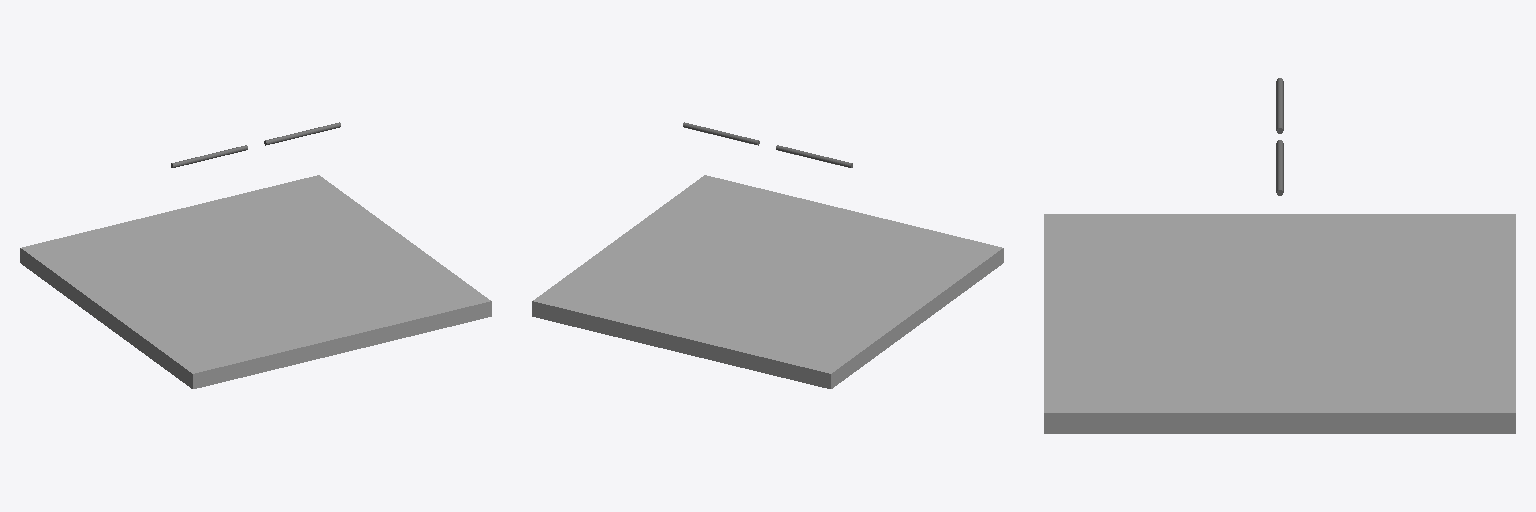
robot.urdf — panda:
<?xml version="1.0" ?>
<!-- =================================================================================== -->
<!-- |    This document was autogenerated by xacro from panda_two_objects.urdf.xacro   | -->
<!-- |    EDITING THIS FILE BY HAND IS NOT RECOMMENDED                                 | -->
<!-- =================================================================================== -->
<robot name="panda">
  <!-- box shaped table as base for the 2 Pandas -->
  <link name="base">
    <visual>
      <origin rpy="0 0 0" xyz="0 0 0.05"/>
      <geometry>
        <box size="2 2 0.1"/>
      </geometry>
      <material name="Pastel Gray">
        <color rgba="0.7 0.7 0.7 0.2"/>
      </material>
    </visual>
    <collision>
      <origin rpy="0 0 0" xyz="0 0 0.05"/>
      <geometry>
        <box size="2 2 0.1"/>
      </geometry>
    </collision>
  </link>
  <joint name="panda0_joint_base" type="fixed">
    <parent link="base"/>
    <child link="panda0_link0"/>
    <origin rpy="0 0 -3.141592653589793" xyz="0.4 0.0 0.1"/>
  </joint>
  <link name="panda0_link0">
    <visual>
      <geometry>
        <mesh filename="package://moveit_resources_panda_description/meshes/visual/link0.dae"/>
      </geometry>
    </visual>
    <collision>
      <geometry>
        <mesh filename="package://moveit_resources_panda_description/meshes/collision/link0.stl"/>
      </geometry>
    </collision>
  </link>
  <link name="panda0_link1">
    <visual>
      <geometry>
        <mesh filename="package://moveit_resources_panda_description/meshes/visual/link1.dae"/>
      </geometry>
    </visual>
    <collision>
      <geometry>
        <mesh filename="package://moveit_resources_panda_description/meshes/collision/link1.stl"/>
      </geometry>
    </collision>
  </link>
  <joint name="panda0_joint1" type="revolute">
    <safety_controller k_position="100.0" k_velocity="40.0" soft_lower_limit="-2.8973" soft_upper_limit="2.8973"/>
    <origin rpy="0 0 0" xyz="0 0 0.333"/>
    <parent link="panda0_link0"/>
    <child link="panda0_link1"/>
    <axis xyz="0 0 1"/>
    <limit effort="87" lower="-2.9671" upper="2.9671" velocity="2.3925"/>
  </joint>
  <link name="panda0_link2">
    <visual>
      <geometry>
        <mesh filename="package://moveit_resources_panda_description/meshes/visual/link2.dae"/>
      </geometry>
    </visual>
    <collision>
      <geometry>
        <mesh filename="package://moveit_resources_panda_description/meshes/collision/link2.stl"/>
      </geometry>
    </collision>
  </link>
  <joint name="panda0_joint2" type="revolute">
    <safety_controller k_position="100.0" k_velocity="40.0" soft_lower_limit="-1.7628" soft_upper_limit="1.7628"/>
    <origin rpy="-1.5707963267948966 0 0" xyz="0 0 0"/>
    <parent link="panda0_link1"/>
    <child link="panda0_link2"/>
    <axis xyz="0 0 1"/>
    <limit effort="87" lower="-1.8326" upper="1.8326" velocity="2.3925"/>
  </joint>
  <link name="panda0_link3">
    <visual>
      <geometry>
        <mesh filename="package://moveit_resources_panda_description/meshes/visual/link3.dae"/>
      </geometry>
    </visual>
    <collision>
      <geometry>
        <mesh filename="package://moveit_resources_panda_description/meshes/collision/link3.stl"/>
      </geometry>
    </collision>
  </link>
  <joint name="panda0_joint3" type="revolute">
    <safety_controller k_position="100.0" k_velocity="40.0" soft_lower_limit="-2.8973" soft_upper_limit="2.8973"/>
    <origin rpy="1.5707963267948966 0 0" xyz="0 -0.316 0"/>
    <parent link="panda0_link2"/>
    <child link="panda0_link3"/>
    <axis xyz="0 0 1"/>
    <limit effort="87" lower="-2.9671" upper="2.9671" velocity="2.3925"/>
  </joint>
  <link name="panda0_link4">
    <visual>
      <geometry>
        <mesh filename="package://moveit_resources_panda_description/meshes/visual/link4.dae"/>
      </geometry>
    </visual>
    <collision>
      <geometry>
        <mesh filename="package://moveit_resources_panda_description/meshes/collision/link4.stl"/>
      </geometry>
    </collision>
  </link>
  <joint name="panda0_joint4" type="revolute">
    <safety_controller k_position="100.0" k_velocity="40.0" soft_lower_limit="-3.0718" soft_upper_limit="0.0175"/>
    <origin rpy="1.5707963267948966 0 0" xyz="0.0825 0 0"/>
    <parent link="panda0_link3"/>
    <child link="panda0_link4"/>
    <axis xyz="0 0 1"/>
    <limit effort="87" lower="-3.1416" upper="0.0873" velocity="2.3925"/>
  </joint>
  <link name="panda0_link5">
    <visual>
      <geometry>
        <mesh filename="package://moveit_resources_panda_description/meshes/visual/link5.dae"/>
      </geometry>
    </visual>
    <collision>
      <geometry>
        <mesh filename="package://moveit_resources_panda_description/meshes/collision/link5.stl"/>
      </geometry>
    </collision>
  </link>
  <joint name="panda0_joint5" type="revolute">
    <safety_controller k_position="100.0" k_velocity="40.0" soft_lower_limit="-2.8973" soft_upper_limit="2.8973"/>
    <origin rpy="-1.5707963267948966 0 0" xyz="-0.0825 0.384 0"/>
    <parent link="panda0_link4"/>
    <child link="panda0_link5"/>
    <axis xyz="0 0 1"/>
    <limit effort="12" lower="-2.9671" upper="2.9671" velocity="2.8710"/>
  </joint>
  <link name="panda0_link6">
    <visual>
      <geometry>
        <mesh filename="package://moveit_resources_panda_description/meshes/visual/link6.dae"/>
      </geometry>
    </visual>
    <collision>
      <geometry>
        <mesh filename="package://moveit_resources_panda_description/meshes/collision/link6.stl"/>
      </geometry>
    </collision>
  </link>
  <joint name="panda0_joint6" type="revolute">
    <safety_controller k_position="100.0" k_velocity="40.0" soft_lower_limit="-0.0175" soft_upper_limit="3.7525"/>
    <origin rpy="1.5707963267948966 0 0" xyz="0 0 0"/>
    <parent link="panda0_link5"/>
    <child link="panda0_link6"/>
    <axis xyz="0 0 1"/>
    <limit effort="12" lower="-0.0873" upper="3.8223" velocity="2.8710"/>
  </joint>
  <link name="panda0_link7">
    <visual>
      <geometry>
        <mesh filename="package://moveit_resources_panda_description/meshes/visual/link7.dae"/>
      </geometry>
    </visual>
    <collision>
      <geometry>
        <mesh filename="package://moveit_resources_panda_description/meshes/collision/link7.stl"/>
      </geometry>
    </collision>
  </link>
  <joint name="panda0_joint7" type="revolute">
    <safety_controller k_position="100.0" k_velocity="40.0" soft_lower_limit="-2.8973" soft_upper_limit="2.8973"/>
    <origin rpy="1.5707963267948966 0 0" xyz="0.088 0 0"/>
    <parent link="panda0_link6"/>
    <child link="panda0_link7"/>
    <axis xyz="0 0 1"/>
    <limit effort="12" lower="-2.9671" upper="2.9671" velocity="2.8710"/>
  </joint>
  <link name="panda0_link8"/>
  <joint name="panda0_joint8" type="fixed">
    <origin rpy="0 0 0" xyz="0 0 0.107"/>
    <parent link="panda0_link7"/>
    <child link="panda0_link8"/>
    <axis xyz="0 0 0"/>
  </joint>
  <joint name="panda0_hand_joint" type="fixed">
    <parent link="panda0_link8"/>
    <child link="panda0_hand"/>
    <origin rpy="0 0 0" xyz="0 0 0"/>
  </joint>
  <link name="panda0_hand">
    <visual>
      <geometry>
        <mesh filename="package://moveit_resources_panda_description/meshes/visual/hand.dae"/>
      </geometry>
    </visual>
    <collision>
      <geometry>
        <mesh filename="package://moveit_resources_panda_description/meshes/collision/hand.stl"/>
      </geometry>
    </collision>
  </link>
  <link name="panda0_leftfinger">
    <visual>
      <geometry>
        <mesh filename="package://moveit_resources_panda_description/meshes/visual/finger.dae"/>
      </geometry>
    </visual>
    <collision>
      <geometry>
        <mesh filename="package://moveit_resources_panda_description/meshes/collision/finger.stl"/>
      </geometry>
    </collision>
  </link>
  <link name="panda0_rightfinger">
    <visual>
      <origin rpy="0 0 3.141592653589793" xyz="0 0 0"/>
      <geometry>
        <mesh filename="package://moveit_resources_panda_description/meshes/visual/finger.dae"/>
      </geometry>
    </visual>
    <collision>
      <origin rpy="0 0 3.141592653589793" xyz="0 0 0"/>
      <geometry>
        <mesh filename="package://moveit_resources_panda_description/meshes/collision/finger.stl"/>
      </geometry>
    </collision>
  </link>
  <joint name="panda0_finger_joint1" type="prismatic">
    <parent link="panda0_hand"/>
    <child link="panda0_leftfinger"/>
    <origin rpy="0 0 0" xyz="0 0 0.0584"/>
    <axis xyz="0 1 0"/>
    <limit effort="20" lower="0.0" upper="0.04" velocity="0.2"/>
  </joint>
  <joint name="panda0_finger_joint2" type="prismatic">
    <parent link="panda0_hand"/>
    <child link="panda0_rightfinger"/>
    <origin rpy="0 0 0" xyz="0 0 0.0584"/>
    <axis xyz="0 -1 0"/>
    <limit effort="20" lower="0.0" upper="0.04" velocity="0.2"/>
    <mimic joint="panda0_finger_joint1"/>
  </joint>
  <material name="rod_0_material">
    <color rgba="0.5 0.5 0.5 1"/>
  </material>
  <link name="rod_0">
    <visual>
      <geometry>
        <cylinder length="0.5" radius="0.015"/>
      </geometry>
      <material name="rod_0_material"/>
    </visual>
    <collision>
      <geometry>
        <cylinder length="0.5" radius="0.015"/>
      </geometry>
    </collision>
  </link>
  <!-- Attach the rod to the specified parent link -->
  <joint name="rod_0_joint" type="fixed">
    <parent link="panda0_hand"/>
    <child link="rod_0"/>
    <origin rpy="0 1.5708 0" xyz="0 0 0.1"/>
    <!-- Adjust as needed -->
  </joint>
  <joint name="panda1_joint_base" type="fixed">
    <parent link="base"/>
    <child link="panda1_link0"/>
    <origin rpy="0 0 0" xyz="-0.4 0.0 0.1"/>
  </joint>
  <link name="panda1_link0">
    <visual>
      <geometry>
        <mesh filename="package://moveit_resources_panda_description/meshes/visual/link0.dae"/>
      </geometry>
    </visual>
    <collision>
      <geometry>
        <mesh filename="package://moveit_resources_panda_description/meshes/collision/link0.stl"/>
      </geometry>
    </collision>
  </link>
  <link name="panda1_link1">
    <visual>
      <geometry>
        <mesh filename="package://moveit_resources_panda_description/meshes/visual/link1.dae"/>
      </geometry>
    </visual>
    <collision>
      <geometry>
        <mesh filename="package://moveit_resources_panda_description/meshes/collision/link1.stl"/>
      </geometry>
    </collision>
  </link>
  <joint name="panda1_joint1" type="revolute">
    <safety_controller k_position="100.0" k_velocity="40.0" soft_lower_limit="-2.8973" soft_upper_limit="2.8973"/>
    <origin rpy="0 0 0" xyz="0 0 0.333"/>
    <parent link="panda1_link0"/>
    <child link="panda1_link1"/>
    <axis xyz="0 0 1"/>
    <limit effort="87" lower="-2.9671" upper="2.9671" velocity="2.3925"/>
  </joint>
  <link name="panda1_link2">
    <visual>
      <geometry>
        <mesh filename="package://moveit_resources_panda_description/meshes/visual/link2.dae"/>
      </geometry>
    </visual>
    <collision>
      <geometry>
        <mesh filename="package://moveit_resources_panda_description/meshes/collision/link2.stl"/>
      </geometry>
    </collision>
  </link>
  <joint name="panda1_joint2" type="revolute">
    <safety_controller k_position="100.0" k_velocity="40.0" soft_lower_limit="-1.7628" soft_upper_limit="1.7628"/>
    <origin rpy="-1.5707963267948966 0 0" xyz="0 0 0"/>
    <parent link="panda1_link1"/>
    <child link="panda1_link2"/>
    <axis xyz="0 0 1"/>
    <limit effort="87" lower="-1.8326" upper="1.8326" velocity="2.3925"/>
  </joint>
  <link name="panda1_link3">
    <visual>
      <geometry>
        <mesh filename="package://moveit_resources_panda_description/meshes/visual/link3.dae"/>
      </geometry>
    </visual>
    <collision>
      <geometry>
        <mesh filename="package://moveit_resources_panda_description/meshes/collision/link3.stl"/>
      </geometry>
    </collision>
  </link>
  <joint name="panda1_joint3" type="revolute">
    <safety_controller k_position="100.0" k_velocity="40.0" soft_lower_limit="-2.8973" soft_upper_limit="2.8973"/>
    <origin rpy="1.5707963267948966 0 0" xyz="0 -0.316 0"/>
    <parent link="panda1_link2"/>
    <child link="panda1_link3"/>
    <axis xyz="0 0 1"/>
    <limit effort="87" lower="-2.9671" upper="2.9671" velocity="2.3925"/>
  </joint>
  <link name="panda1_link4">
    <visual>
      <geometry>
        <mesh filename="package://moveit_resources_panda_description/meshes/visual/link4.dae"/>
      </geometry>
    </visual>
    <collision>
      <geometry>
        <mesh filename="package://moveit_resources_panda_description/meshes/collision/link4.stl"/>
      </geometry>
    </collision>
  </link>
  <joint name="panda1_joint4" type="revolute">
    <safety_controller k_position="100.0" k_velocity="40.0" soft_lower_limit="-3.0718" soft_upper_limit="0.0175"/>
    <origin rpy="1.5707963267948966 0 0" xyz="0.0825 0 0"/>
    <parent link="panda1_link3"/>
    <child link="panda1_link4"/>
    <axis xyz="0 0 1"/>
    <limit effort="87" lower="-3.1416" upper="0.0873" velocity="2.3925"/>
  </joint>
  <link name="panda1_link5">
    <visual>
      <geometry>
        <mesh filename="package://moveit_resources_panda_description/meshes/visual/link5.dae"/>
      </geometry>
    </visual>
    <collision>
      <geometry>
        <mesh filename="package://moveit_resources_panda_description/meshes/collision/link5.stl"/>
      </geometry>
    </collision>
  </link>
  <joint name="panda1_joint5" type="revolute">
    <safety_controller k_position="100.0" k_velocity="40.0" soft_lower_limit="-2.8973" soft_upper_limit="2.8973"/>
    <origin rpy="-1.5707963267948966 0 0" xyz="-0.0825 0.384 0"/>
    <parent link="panda1_link4"/>
    <child link="panda1_link5"/>
    <axis xyz="0 0 1"/>
    <limit effort="12" lower="-2.9671" upper="2.9671" velocity="2.8710"/>
  </joint>
  <link name="panda1_link6">
    <visual>
      <geometry>
        <mesh filename="package://moveit_resources_panda_description/meshes/visual/link6.dae"/>
      </geometry>
    </visual>
    <collision>
      <geometry>
        <mesh filename="package://moveit_resources_panda_description/meshes/collision/link6.stl"/>
      </geometry>
    </collision>
  </link>
  <joint name="panda1_joint6" type="revolute">
    <safety_controller k_position="100.0" k_velocity="40.0" soft_lower_limit="-0.0175" soft_upper_limit="3.7525"/>
    <origin rpy="1.5707963267948966 0 0" xyz="0 0 0"/>
    <parent link="panda1_link5"/>
    <child link="panda1_link6"/>
    <axis xyz="0 0 1"/>
    <limit effort="12" lower="-0.0873" upper="3.8223" velocity="2.8710"/>
  </joint>
  <link name="panda1_link7">
    <visual>
      <geometry>
        <mesh filename="package://moveit_resources_panda_description/meshes/visual/link7.dae"/>
      </geometry>
    </visual>
    <collision>
      <geometry>
        <mesh filename="package://moveit_resources_panda_description/meshes/collision/link7.stl"/>
      </geometry>
    </collision>
  </link>
  <joint name="panda1_joint7" type="revolute">
    <safety_controller k_position="100.0" k_velocity="40.0" soft_lower_limit="-2.8973" soft_upper_limit="2.8973"/>
    <origin rpy="1.5707963267948966 0 0" xyz="0.088 0 0"/>
    <parent link="panda1_link6"/>
    <child link="panda1_link7"/>
    <axis xyz="0 0 1"/>
    <limit effort="12" lower="-2.9671" upper="2.9671" velocity="2.8710"/>
  </joint>
  <link name="panda1_link8"/>
  <joint name="panda1_joint8" type="fixed">
    <origin rpy="0 0 0" xyz="0 0 0.107"/>
    <parent link="panda1_link7"/>
    <child link="panda1_link8"/>
    <axis xyz="0 0 0"/>
  </joint>
  <joint name="panda1_hand_joint" type="fixed">
    <parent link="panda1_link8"/>
    <child link="panda1_hand"/>
    <origin rpy="0 0 0" xyz="0 0 0"/>
  </joint>
  <link name="panda1_hand">
    <visual>
      <geometry>
        <mesh filename="package://moveit_resources_panda_description/meshes/visual/hand.dae"/>
      </geometry>
    </visual>
    <collision>
      <geometry>
        <mesh filename="package://moveit_resources_panda_description/meshes/collision/hand.stl"/>
      </geometry>
    </collision>
  </link>
  <link name="panda1_leftfinger">
    <visual>
      <geometry>
        <mesh filename="package://moveit_resources_panda_description/meshes/visual/finger.dae"/>
      </geometry>
    </visual>
    <collision>
      <geometry>
        <mesh filename="package://moveit_resources_panda_description/meshes/collision/finger.stl"/>
      </geometry>
    </collision>
  </link>
  <link name="panda1_rightfinger">
    <visual>
      <origin rpy="0 0 3.141592653589793" xyz="0 0 0"/>
      <geometry>
        <mesh filename="package://moveit_resources_panda_description/meshes/visual/finger.dae"/>
      </geometry>
    </visual>
    <collision>
      <origin rpy="0 0 3.141592653589793" xyz="0 0 0"/>
      <geometry>
        <mesh filename="package://moveit_resources_panda_description/meshes/collision/finger.stl"/>
      </geometry>
    </collision>
  </link>
  <joint name="panda1_finger_joint1" type="prismatic">
    <parent link="panda1_hand"/>
    <child link="panda1_leftfinger"/>
    <origin rpy="0 0 0" xyz="0 0 0.0584"/>
    <axis xyz="0 1 0"/>
    <limit effort="20" lower="0.0" upper="0.04" velocity="0.2"/>
  </joint>
  <joint name="panda1_finger_joint2" type="prismatic">
    <parent link="panda1_hand"/>
    <child link="panda1_rightfinger"/>
    <origin rpy="0 0 0" xyz="0 0 0.0584"/>
    <axis xyz="0 -1 0"/>
    <limit effort="20" lower="0.0" upper="0.04" velocity="0.2"/>
    <mimic joint="panda1_finger_joint1"/>
  </joint>
  <material name="rod_1_material">
    <color rgba="0.5 0.5 0.5 1"/>
  </material>
  <link name="rod_1">
    <visual>
      <geometry>
        <cylinder length="0.5" radius="0.015"/>
      </geometry>
      <material name="rod_1_material"/>
    </visual>
    <collision>
      <geometry>
        <cylinder length="0.5" radius="0.015"/>
      </geometry>
    </collision>
  </link>
  <!-- Attach the rod to the specified parent link -->
  <joint name="rod_1_joint" type="fixed">
    <parent link="panda1_hand"/>
    <child link="rod_1"/>
    <origin rpy="0 1.5708 0" xyz="0 0 0.1"/>
    <!-- Adjust as needed -->
  </joint>
</robot>

--- What the picture shows (computed from the rendered views, not written in the file) ---
The picture shows the robot from 3 angles, left to right: view 1: azimuth 30°, elevation 25°; view 2: azimuth 150°, elevation 25°; view 3: azimuth 270°, elevation 25°; orthographic projection.
Robot: panda — 27 links, 26 joints (14 revolute, 4 prismatic, 8 fixed); root link base; default pose: every joint at zero.
Visible links, largest first — view 1: base; view 2: base; view 3: base.
Boxes of the visible links, x1,y1,x2,y2 form: base: [20, 175, 491, 388]; base: [532, 175, 1003, 388]; base: [1044, 214, 1515, 433].
Bounding box of the posed robot: 2 × 2 × 0.941 m (x, y, z).
0 mesh visuals loaded from 10 distinct referenced files (none loaded); not drawn: 22 (reference not matched to a file when rendering).